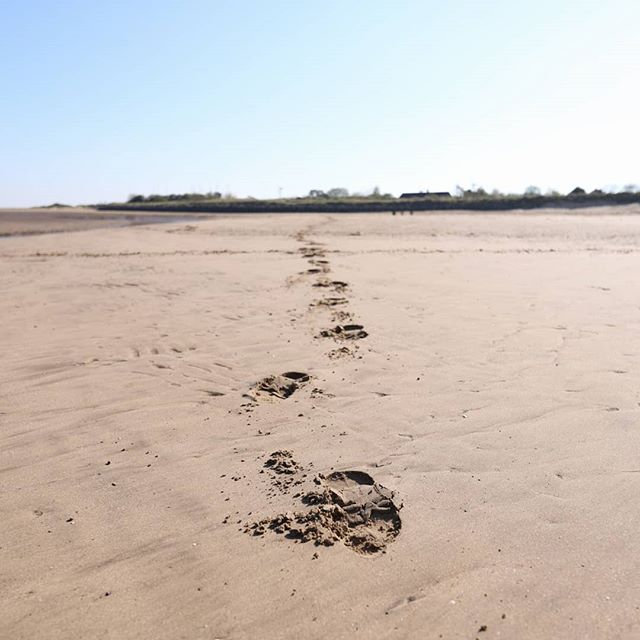beach: (1, 202, 640, 640)
sky: (1, 1, 631, 182)
